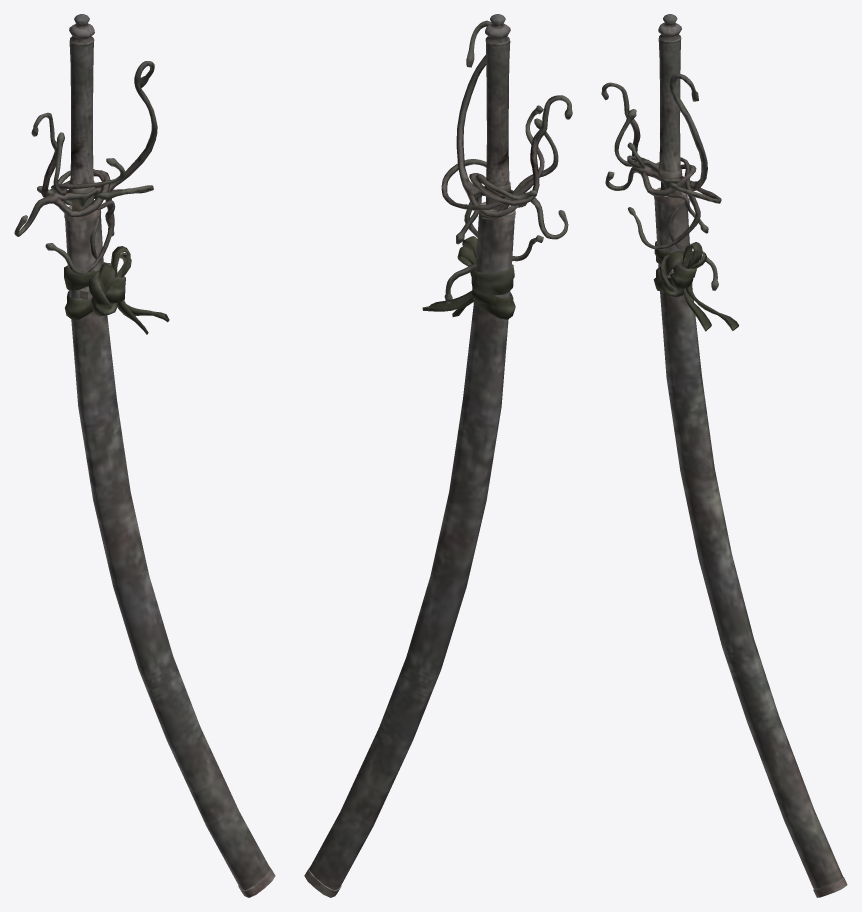
File: weapon-wp_a_0557.glb
The picture shows the model from 3 angles, left to right: view 1: azimuth 30°, elevation 25°; view 2: azimuth 150°, elevation 25°; view 3: azimuth 330°, elevation 25°; orthographic projection. The views are drawn at different scales.
Visible parts, largest first — view 1: wp_a_0557_mesh; view 2: wp_a_0557_mesh; view 3: wp_a_0557_mesh.
Boxes of the visible parts, x1,y1,x2,y2 form: wp_a_0557_mesh: [14, 14, 275, 897]; wp_a_0557_mesh: [304, 14, 572, 897]; wp_a_0557_mesh: [601, 14, 847, 897].
Size of the model in its own units: 0.426 by 1.45 by 0.1419.
Materials: 3 (3 with a texture image).
